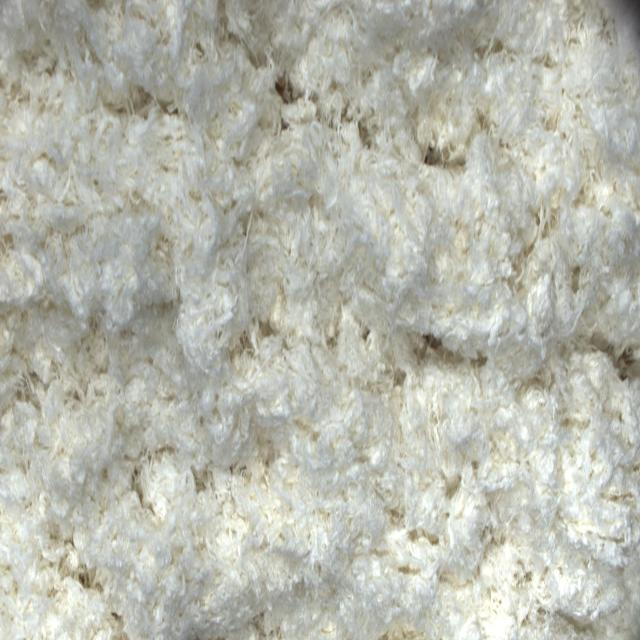dust: (419, 331, 452, 369), (427, 144, 468, 171), (278, 75, 299, 110)
